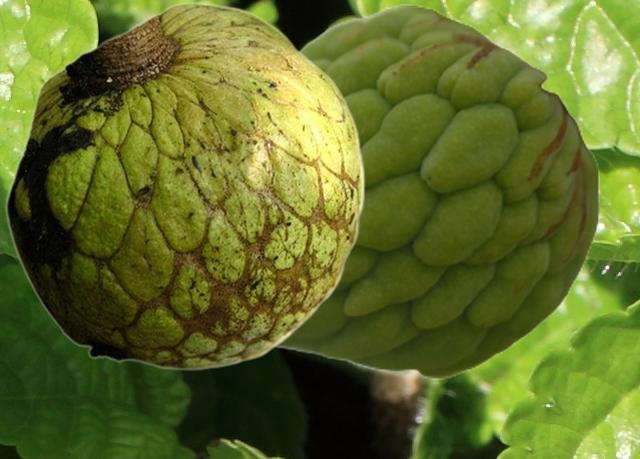atis: (4, 1, 364, 370), (272, 4, 598, 378)
